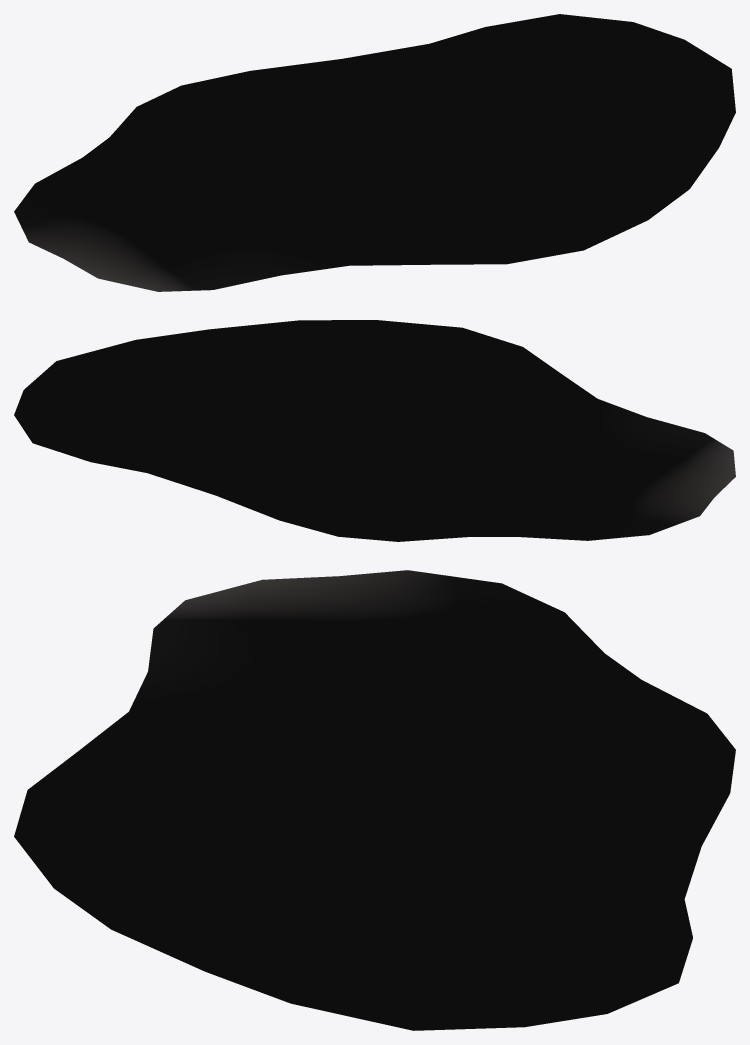
The model's file is Musor.fbx.
3 renders of one model, top to bottom at view 1: azimuth 30°, elevation 25°; view 2: azimuth 150°, elevation 25°; view 3: azimuth 270°, elevation 25°, orthographic. The views are drawn at different scales.
Parts seen in each view (by area): view 1: ground; view 2: ground; view 3: ground.
Boxes of the visible parts, x1,y1,x2,y2 form: ground: [14, 14, 735, 291]; ground: [14, 320, 735, 541]; ground: [14, 570, 735, 1030].
Bounding box in the file's own units: 665 × 7.17e-05 × 440.
